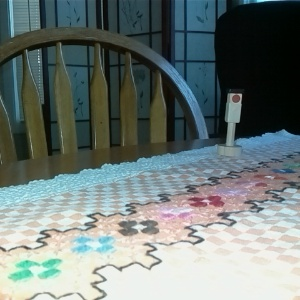traffic light red: (216, 87, 244, 159)
